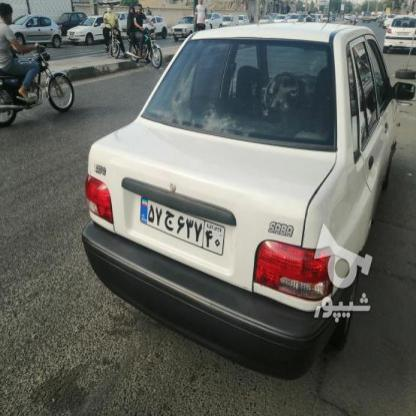licence: (138, 194, 225, 256)
